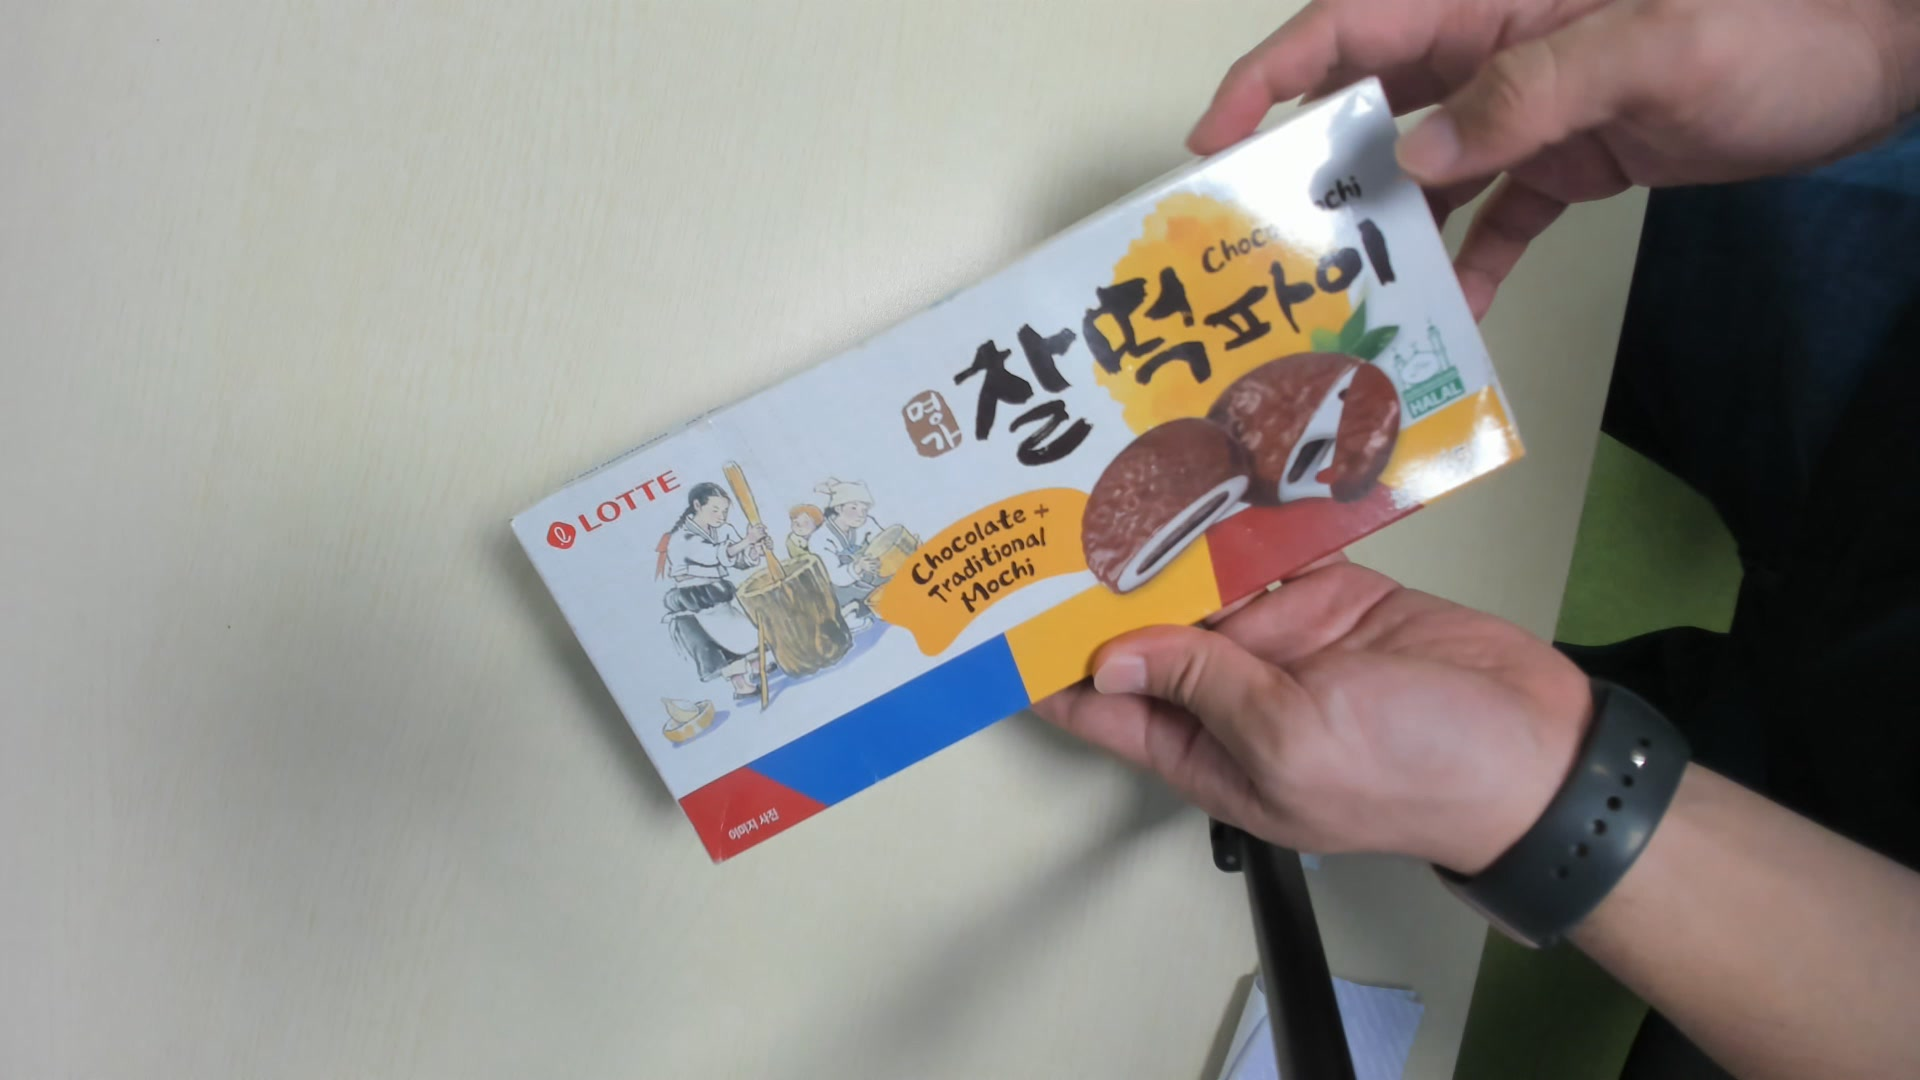SweetsChocolatesOthers_200-299g_NonHalal_Nonhealthy: (509, 80, 1530, 874)
